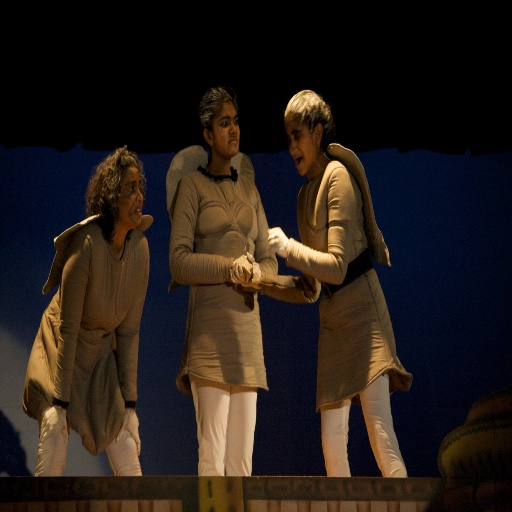hand: (39, 401, 70, 445), (115, 407, 142, 455), (229, 251, 260, 287), (232, 252, 254, 287), (267, 222, 288, 258)
